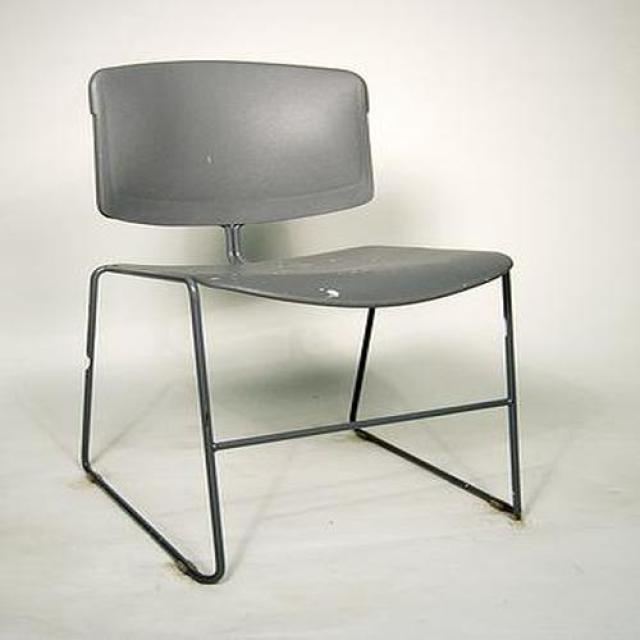chair: (78, 61, 525, 588)
